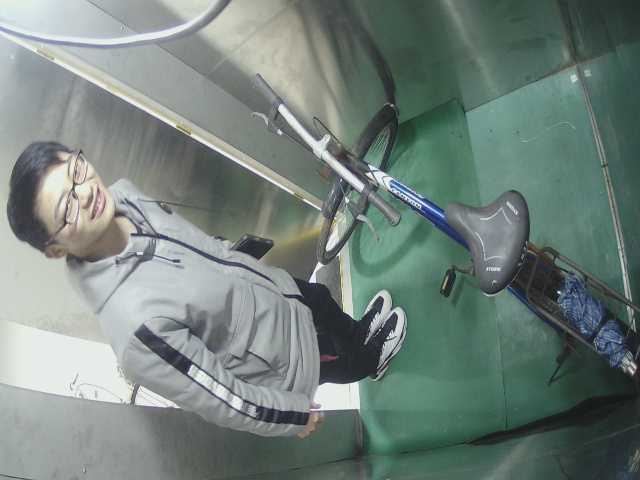bicycle: (239, 66, 640, 377)
person: (11, 144, 417, 441)
